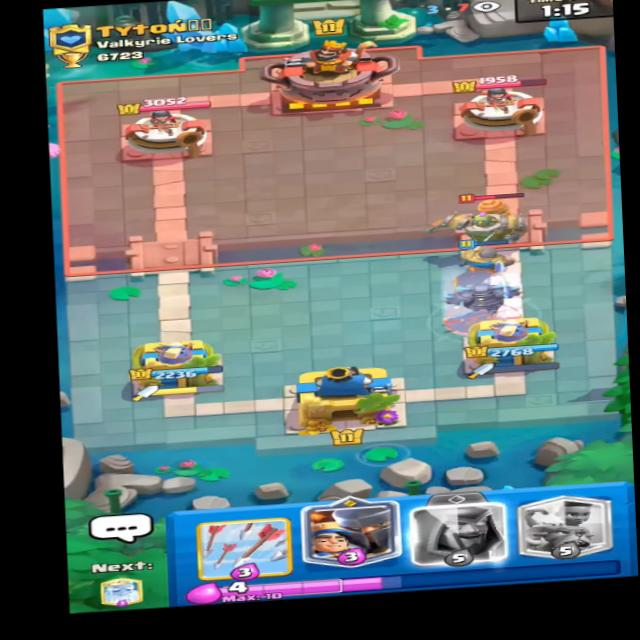Goblinmachine: (437, 186, 553, 255)
